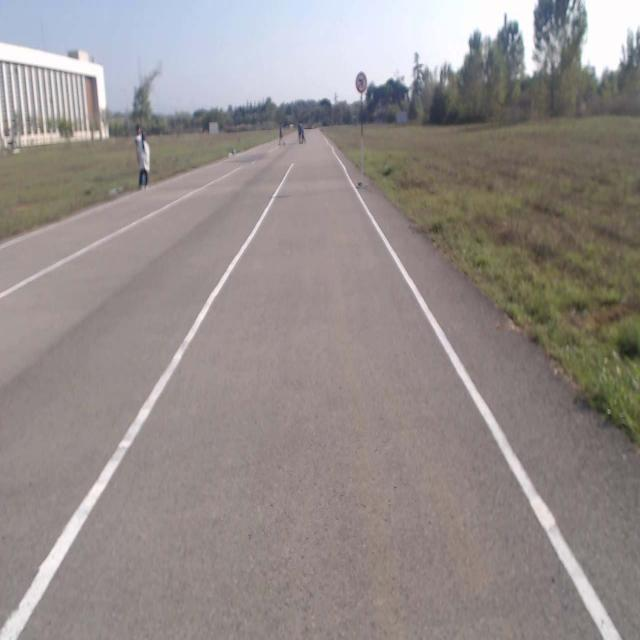soladonulmez: (356, 72, 366, 92)
